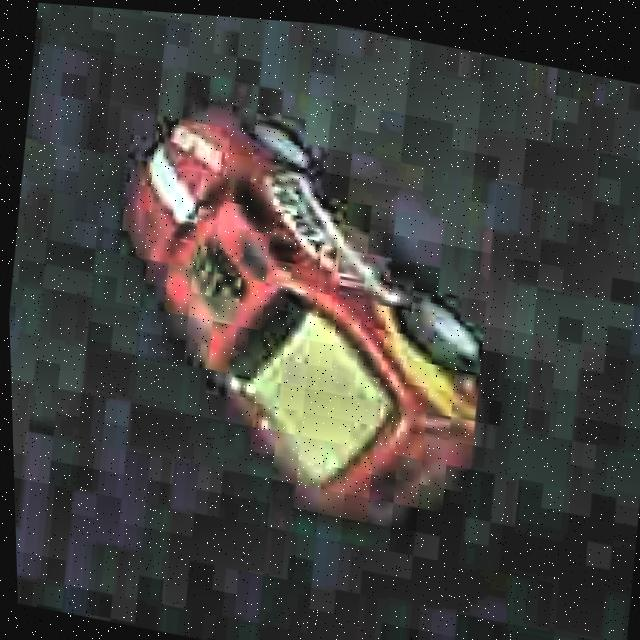car: (63, 70, 530, 562)
